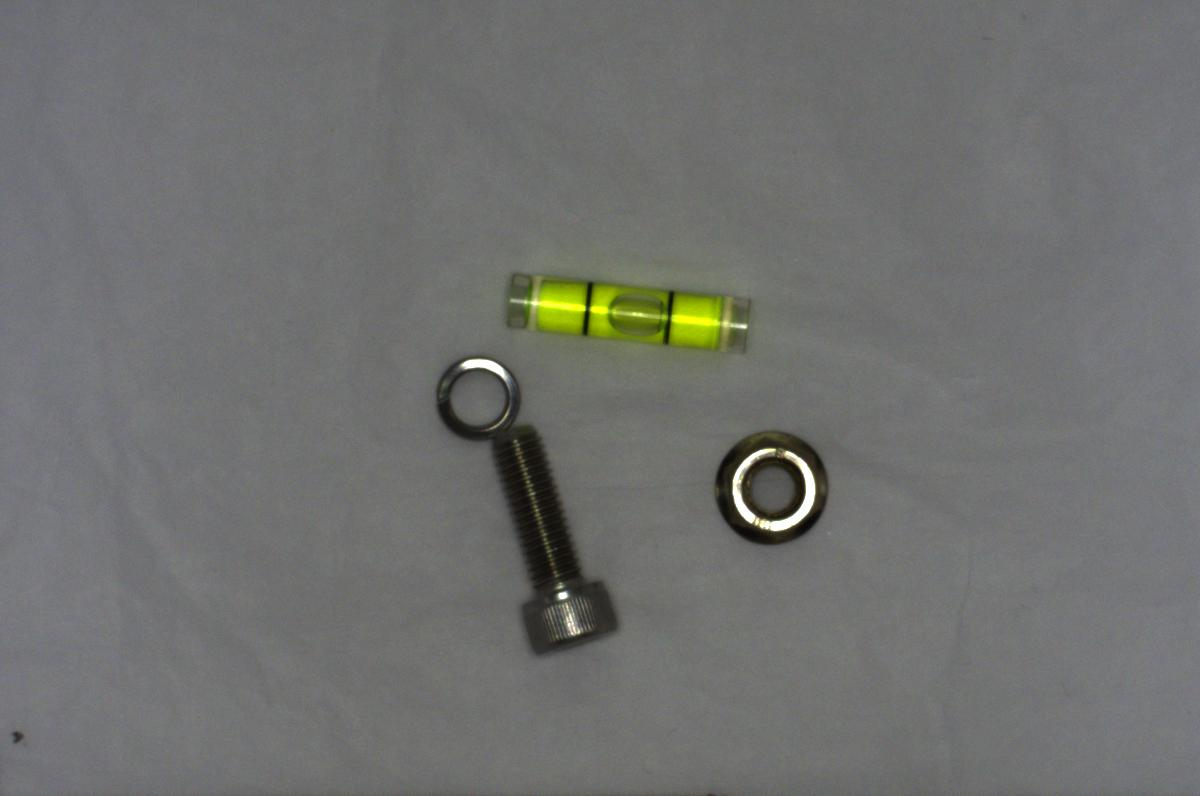Flange nut: (705, 423, 834, 543)
Hexagon screw: (487, 422, 624, 659)
Horizontal bubble: (491, 268, 757, 361)
Spring washer: (427, 352, 522, 441)
